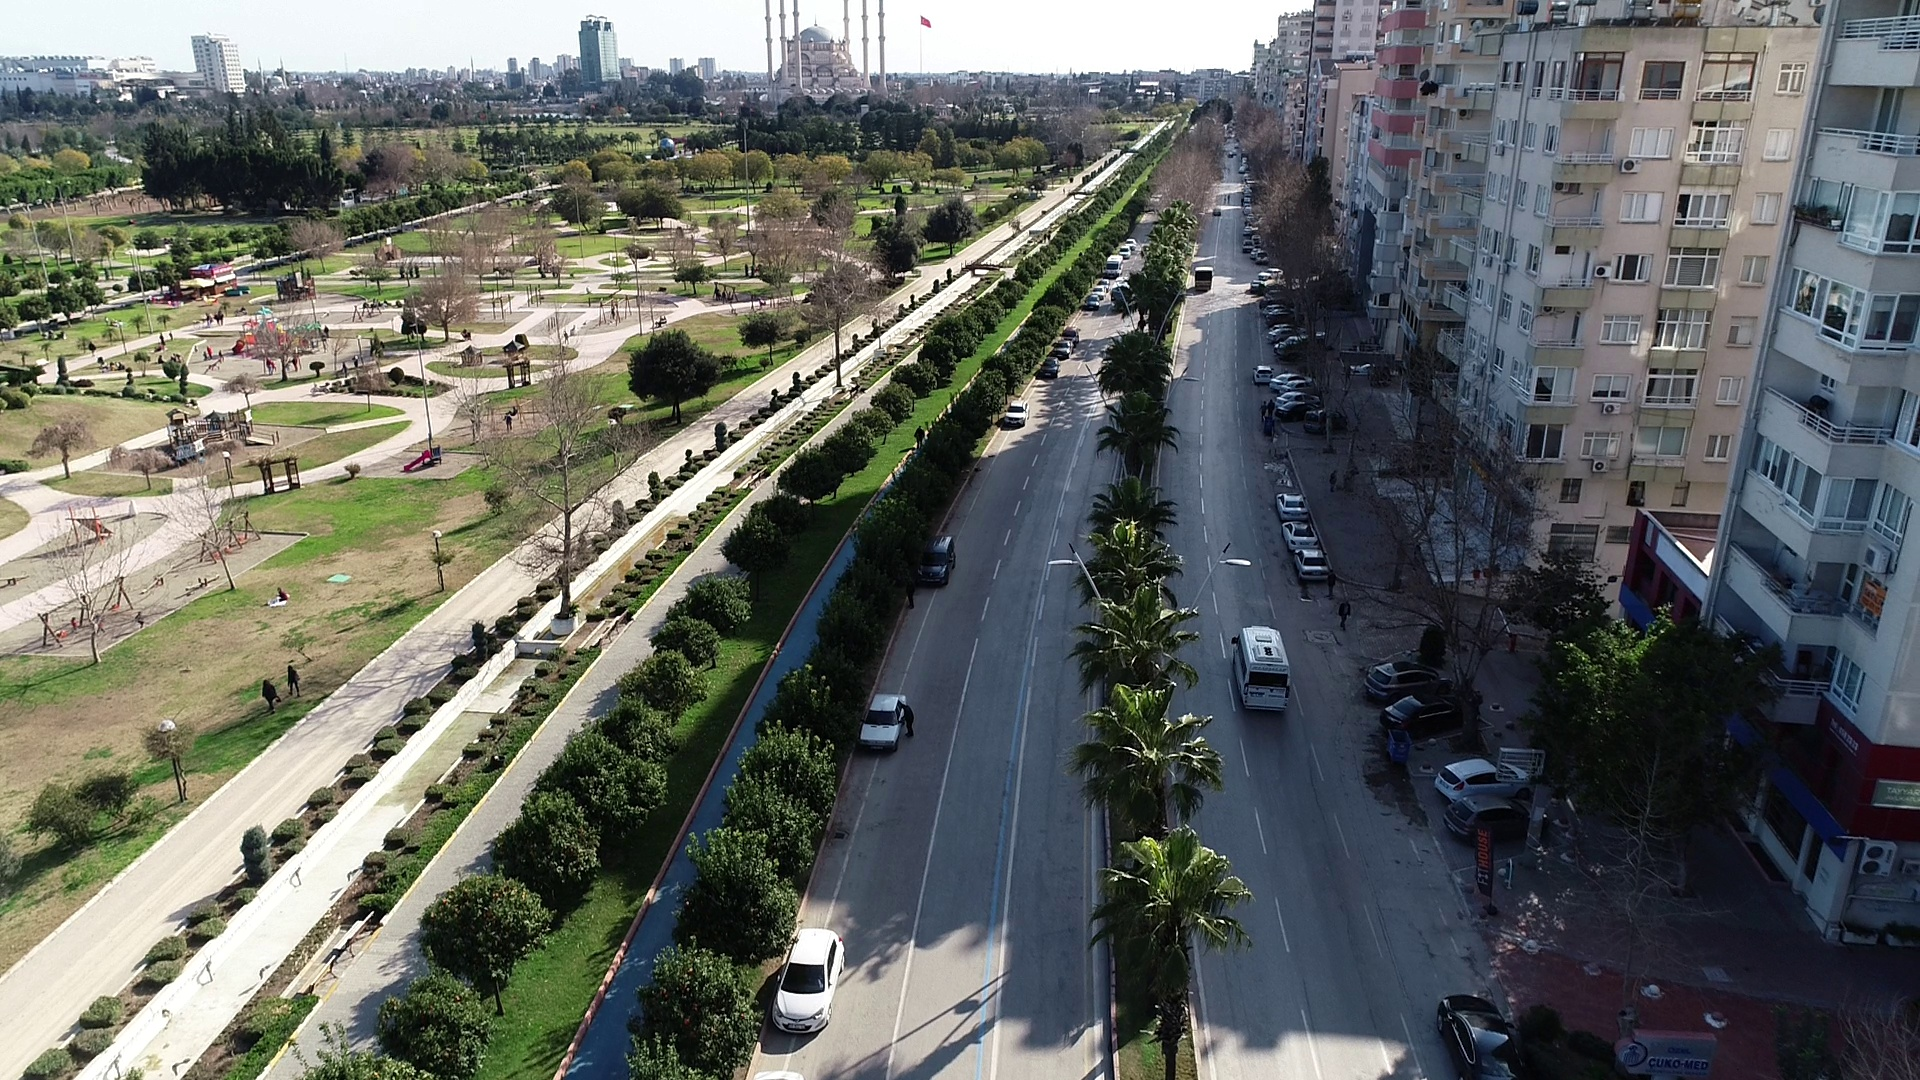bus: (1227, 619, 1310, 721)
car: (766, 925, 851, 1037), (1435, 990, 1522, 1080), (1374, 686, 1484, 741), (1359, 643, 1459, 704), (1443, 792, 1551, 845), (1427, 749, 1531, 802), (857, 686, 909, 759), (912, 527, 959, 594), (1292, 545, 1339, 584), (1280, 521, 1321, 557), (1270, 486, 1310, 521), (1004, 396, 1033, 433)
person: (251, 676, 284, 719), (280, 661, 306, 706), (894, 698, 919, 741), (263, 586, 290, 610)
